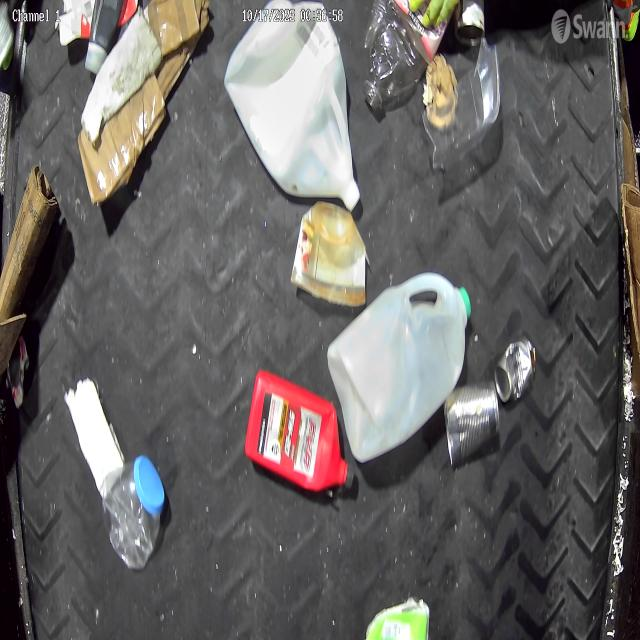can: (444, 380, 500, 469), (496, 338, 536, 405), (453, 0, 485, 46)
milk_jug: (224, 0, 360, 212), (327, 272, 472, 462)
non_white_jug: (245, 369, 348, 495)
plastic_bottle: (366, 2, 455, 111)
